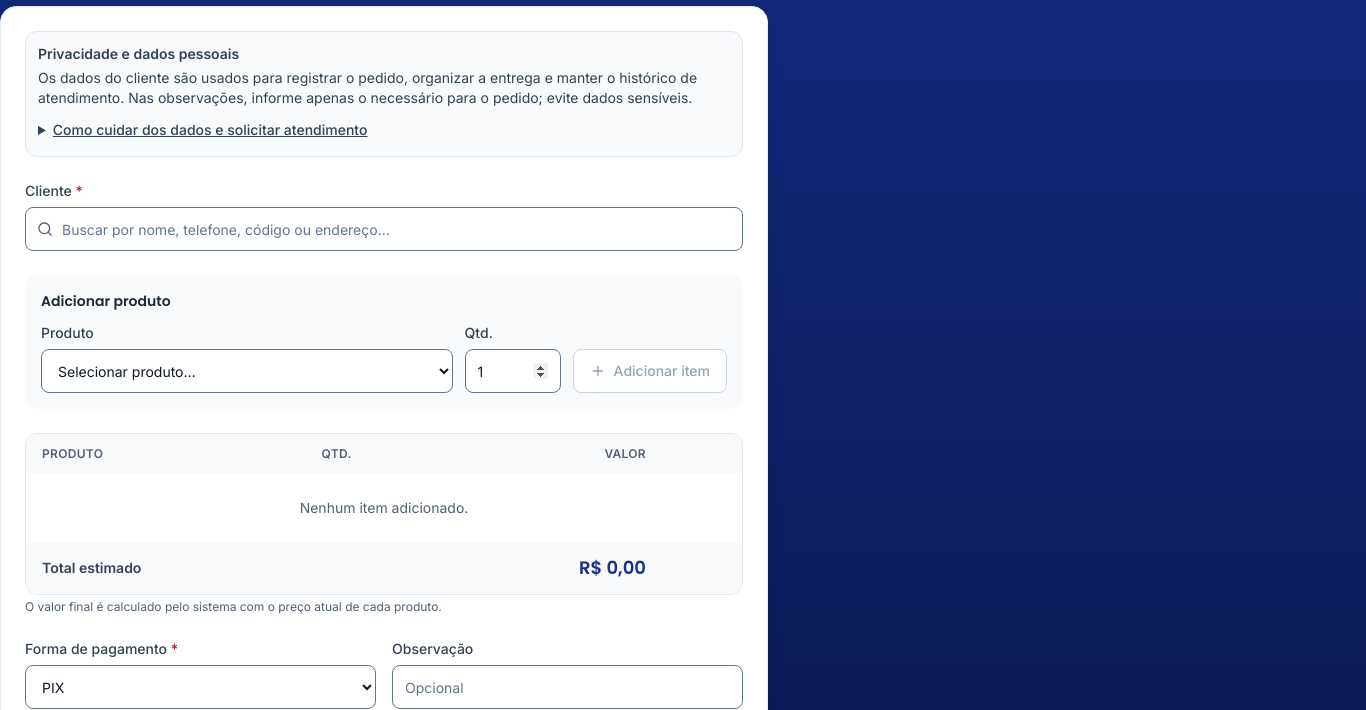
Novo pedido › avisa quando a quantidade passa do estoque, mas deixa salvar (a baixa é na confirmação)
Type "ana" into the dropdown with placeholder "Buscar por nome, telefone, código ou endereço…" at (384, 229), box [25,207,743,251]
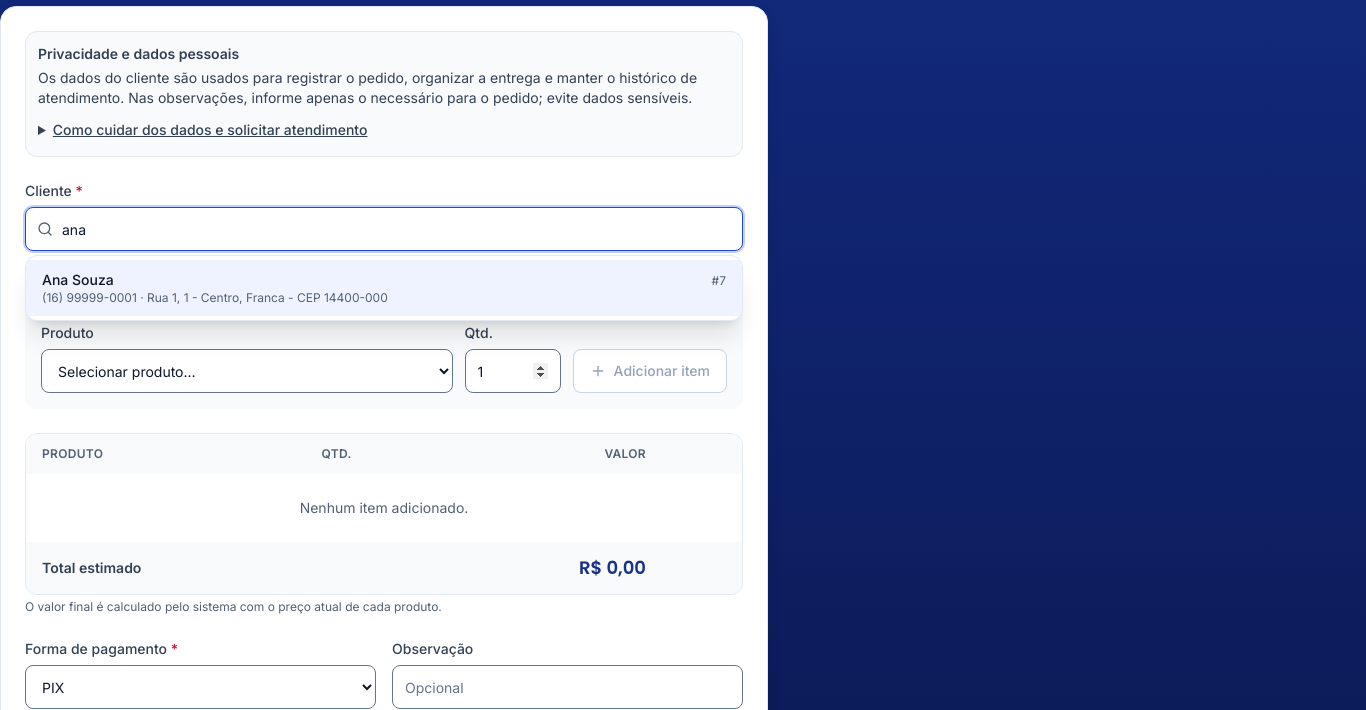
Click the option "Ana Souza" at (384, 288), box [26,260,742,316]
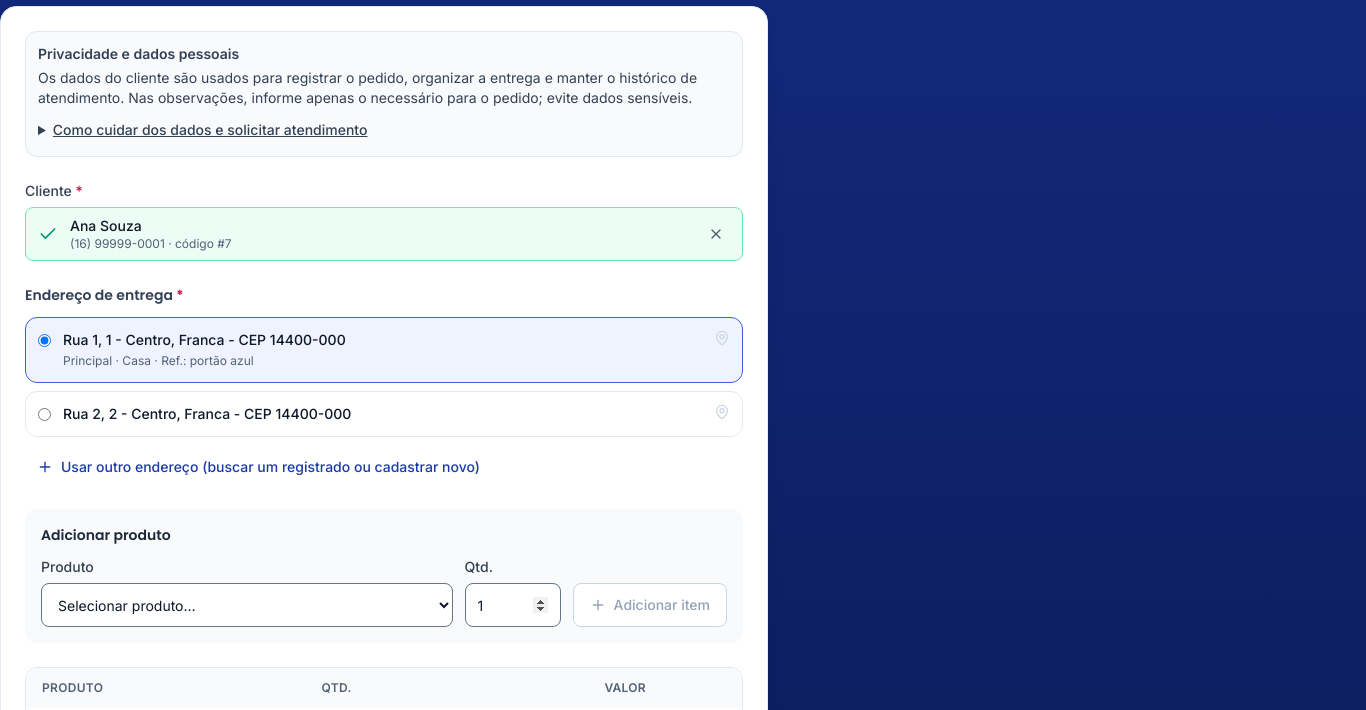
Check: the radio button labelled "Rua 1, 1" is shown, box [38,334,51,347]
Select "Saco 100L · R$ 25,90 · estoque 20" in the dropdown labelled "Produto" at (247, 605), box [41,583,453,627]
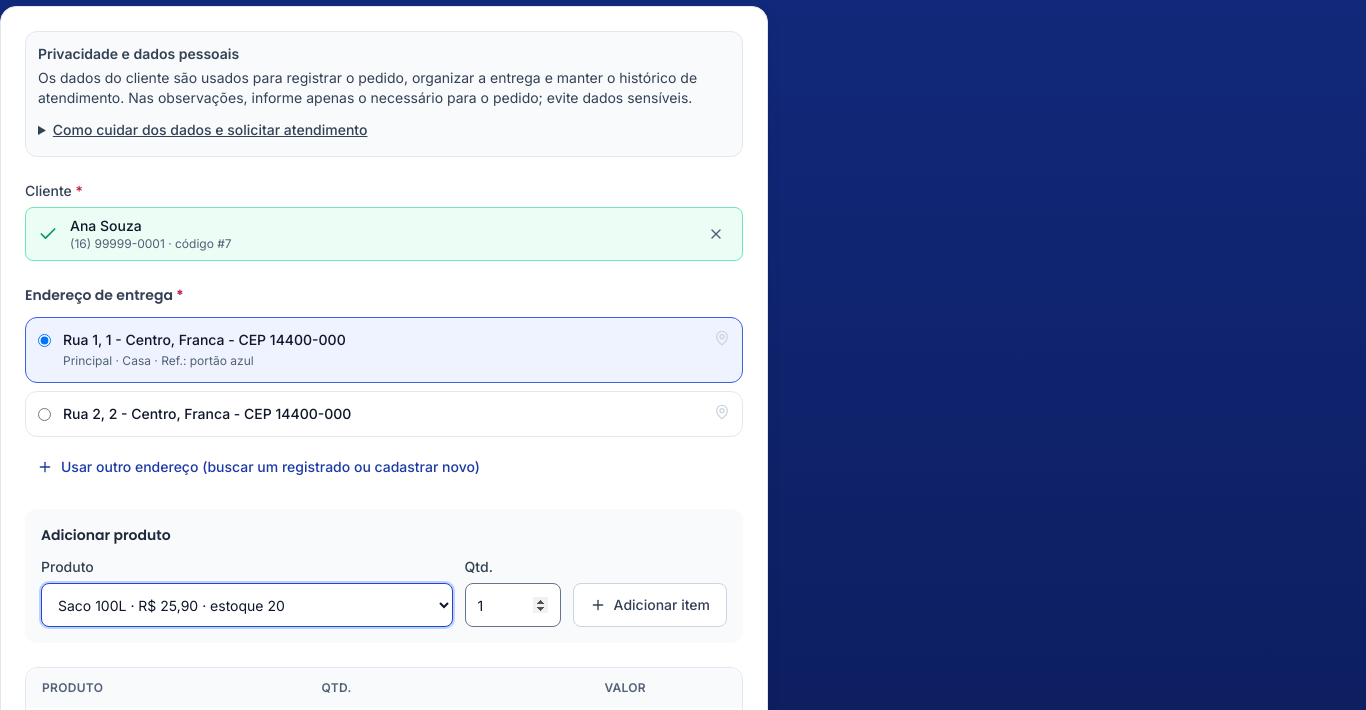
Replace the text in the number field labelled "Qtd." with "50" at (513, 605), box [465,583,561,627]
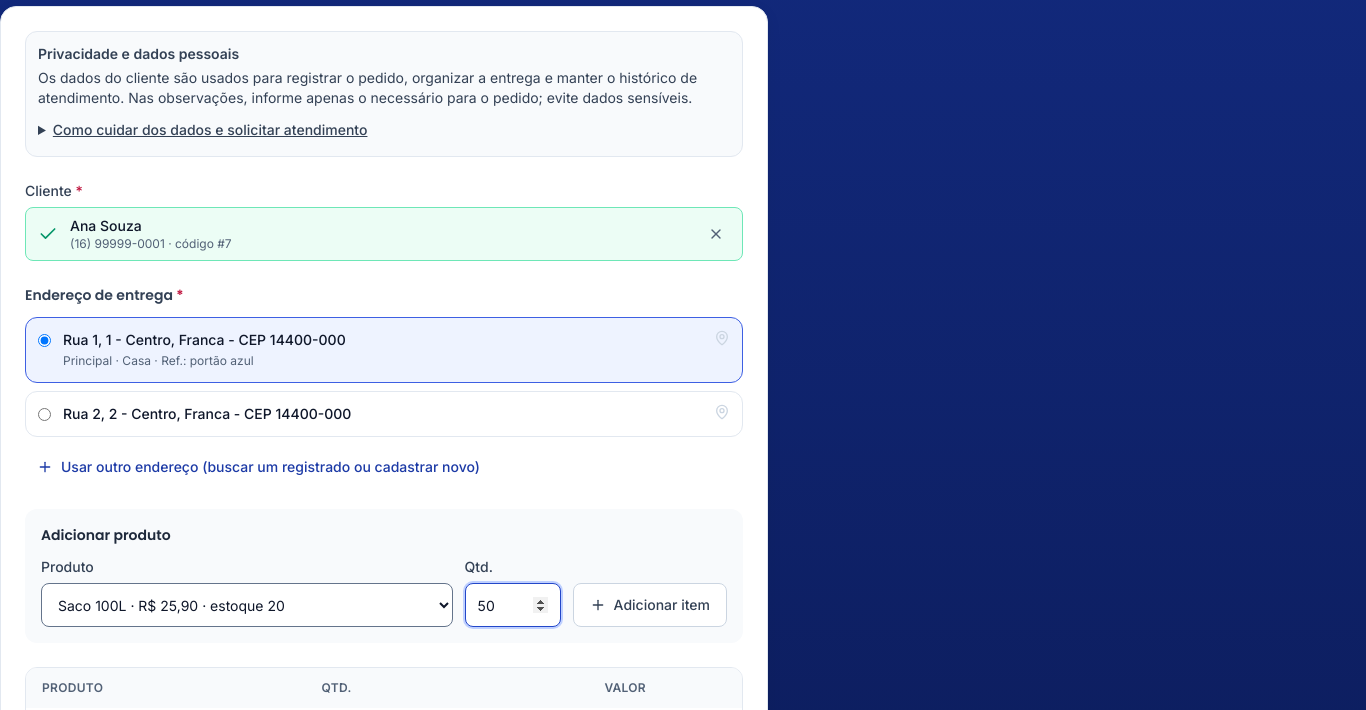
Click the button "Adicionar item" at (650, 605), box [573,583,727,627]
(page scrolled)
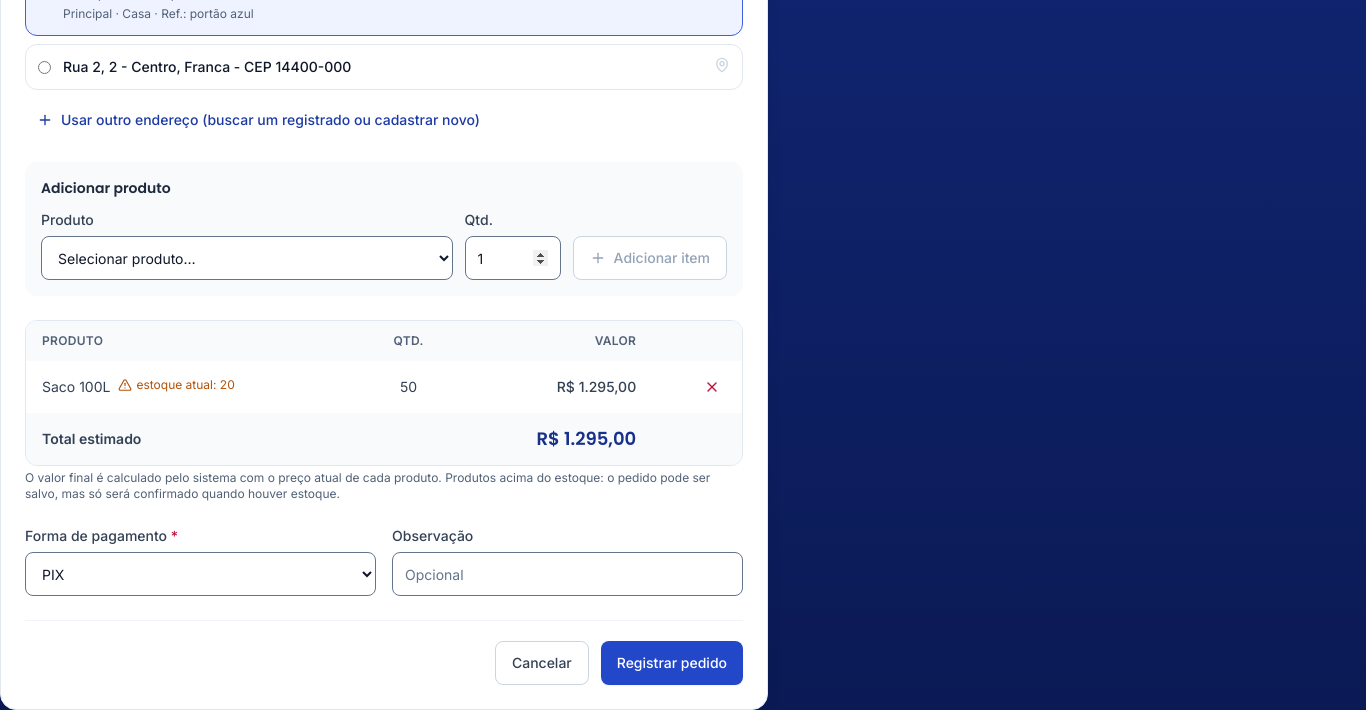
Check: the text "estoque atual: 20" is shown, box [118,377,235,393]
Check: the text "só será confirmado quando houver estoque" is shown, box [25,470,710,501]
